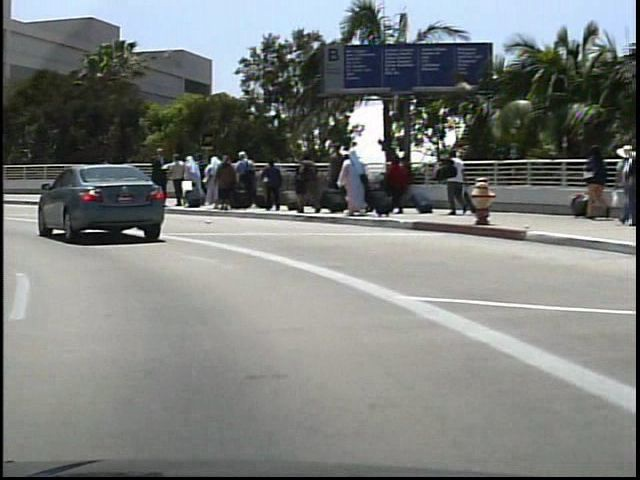person: (571, 139, 611, 223), (438, 144, 466, 219), (94, 150, 123, 212), (144, 144, 169, 210), (164, 151, 184, 210), (106, 154, 126, 196)
